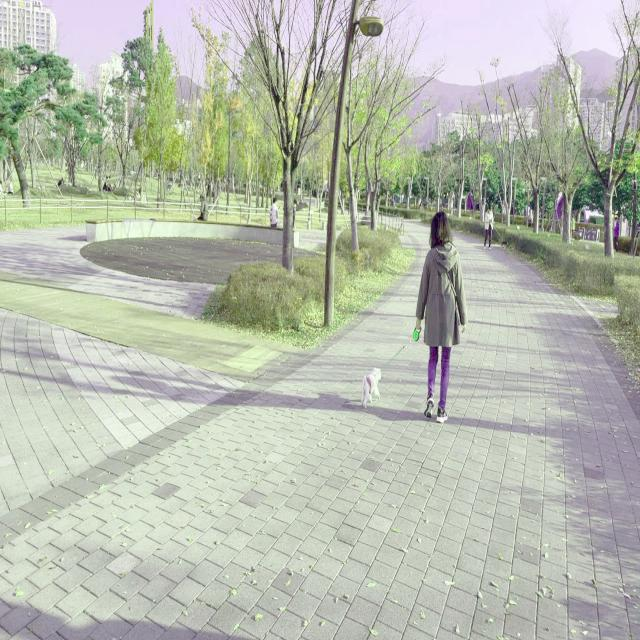Leashed_Dog: (360, 308, 432, 410)
